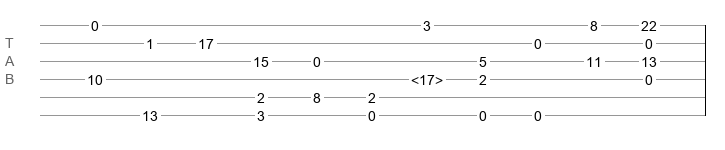0: (91, 18, 99, 28), (313, 54, 321, 64), (368, 108, 376, 118), (479, 108, 487, 118), (534, 108, 542, 118), (534, 36, 542, 46), (645, 36, 653, 46), (645, 72, 653, 82)
1: (146, 36, 154, 46)
10: (87, 72, 103, 82)
11: (586, 54, 602, 64)
13: (142, 108, 158, 118), (641, 54, 657, 64)
15: (253, 54, 269, 64)
17: (198, 36, 214, 46)
2: (257, 90, 265, 100), (368, 90, 376, 100), (479, 72, 487, 82)
22: (641, 18, 657, 28)
3: (257, 108, 265, 118), (423, 18, 431, 28)
5: (479, 54, 487, 64)
8: (313, 90, 321, 100), (590, 18, 598, 28)
harmonic: (411, 72, 443, 82)
